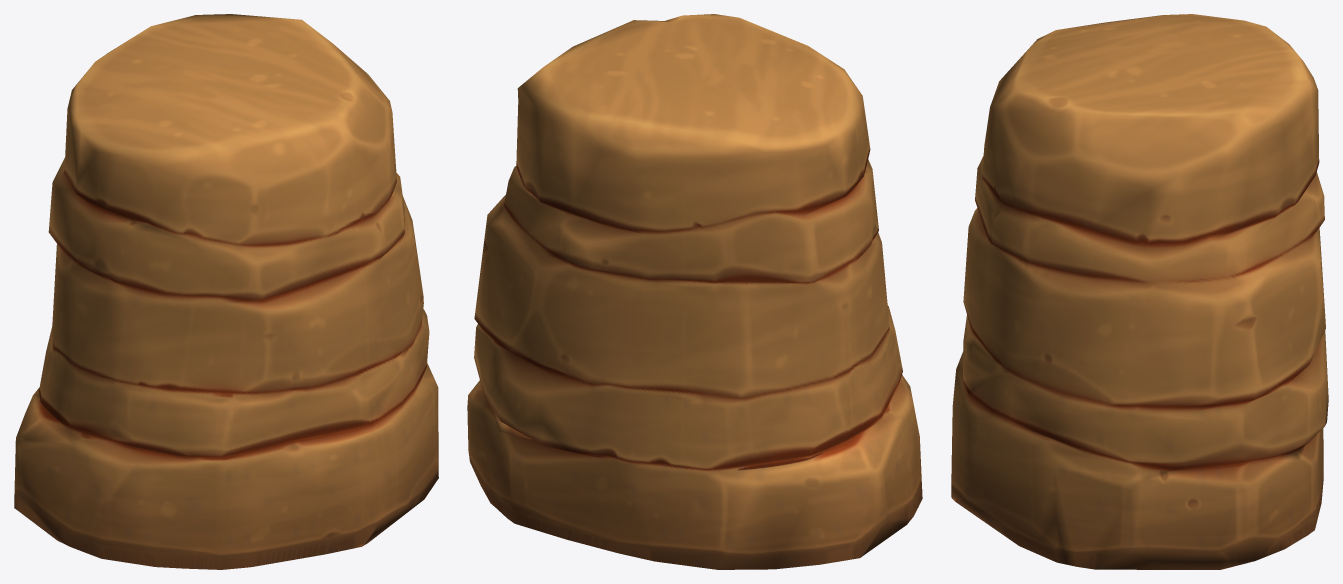
Rendered from Rock_Large_01.fbx.
3 views of the same model, side by side, from view 1: azimuth 30°, elevation 25°; view 2: azimuth 150°, elevation 25°; view 3: azimuth 270°, elevation 25° (orthographic). The views are drawn at different scales.
Parts seen in each view (by area): view 1: Rock_Large_01; view 2: Rock_Large_01; view 3: Rock_Large_01.
Boxes of the visible parts, box(x1,y1,x2,y2) form: Rock_Large_01: box(14, 14, 438, 569); Rock_Large_01: box(467, 14, 922, 569); Rock_Large_01: box(951, 14, 1328, 569).
Size of the model in its own units: 84.99 by 86.28 by 69.92.
